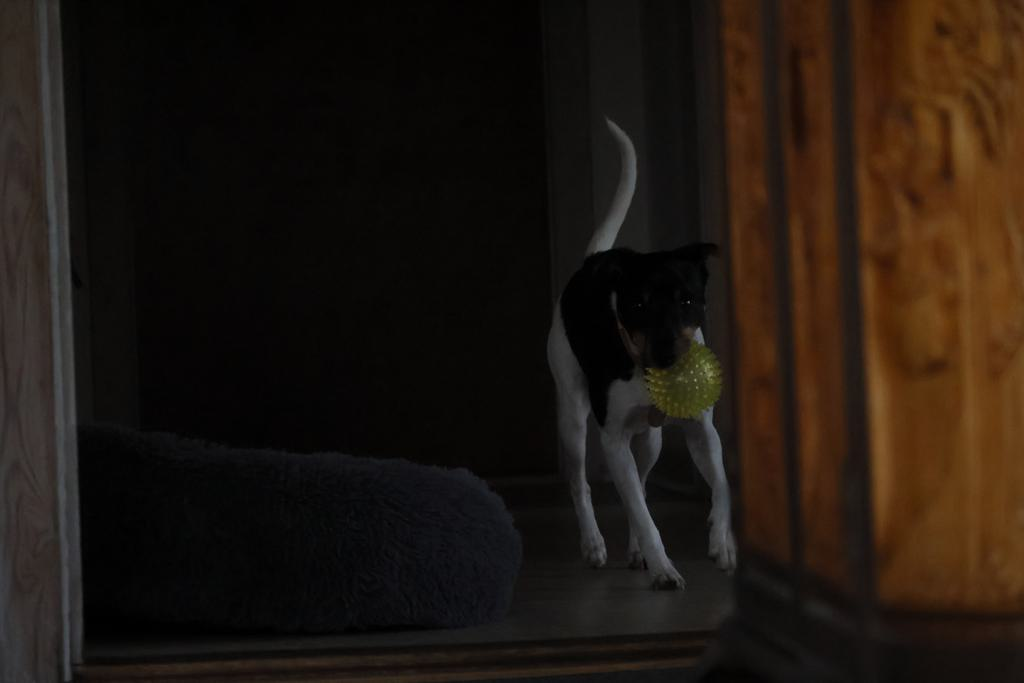Dog: (518, 100, 775, 615)
